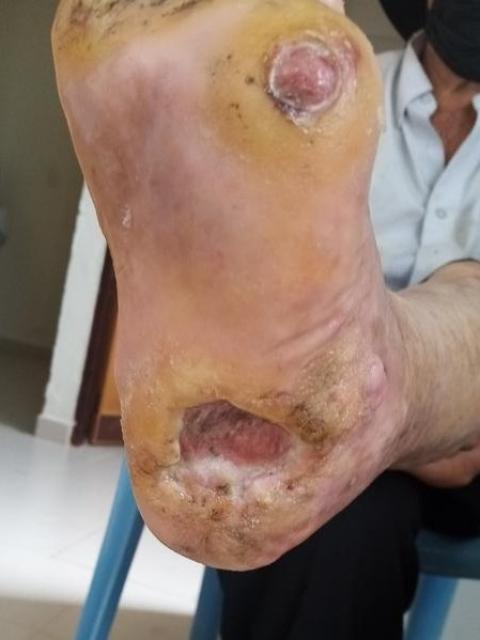wound: (147, 395, 320, 532), (259, 27, 354, 136)
